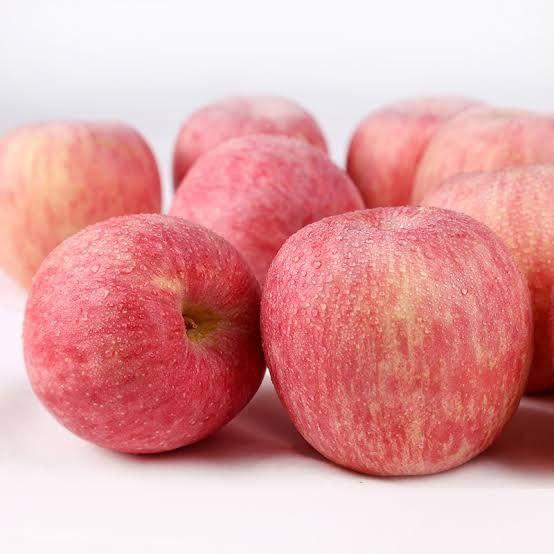Apple: (260, 205, 533, 476), (24, 213, 264, 458)
